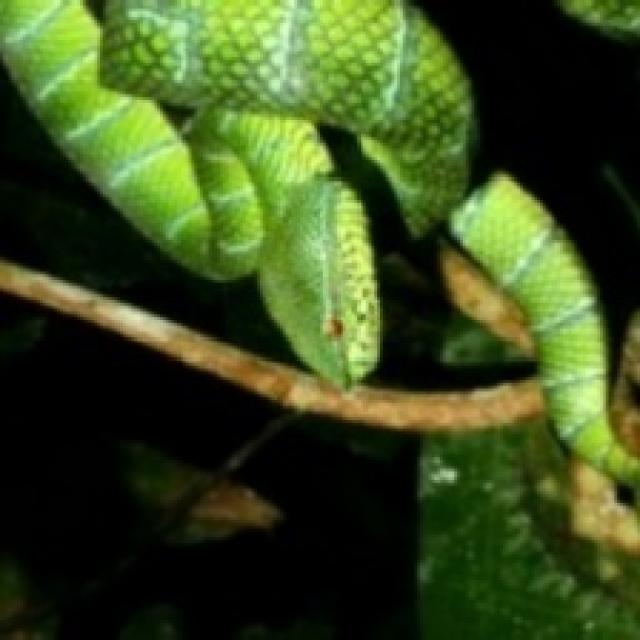north ph temple pitviper: (0, 0, 637, 534), (351, 203, 540, 391)
